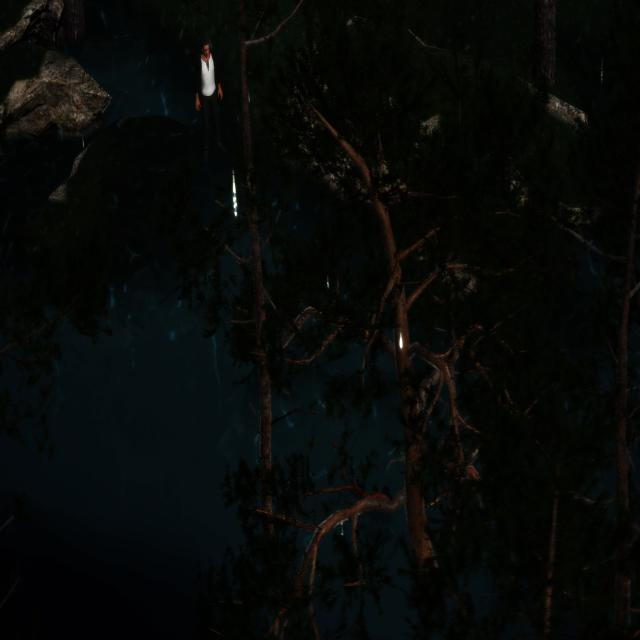Human: (191, 33, 228, 157)
